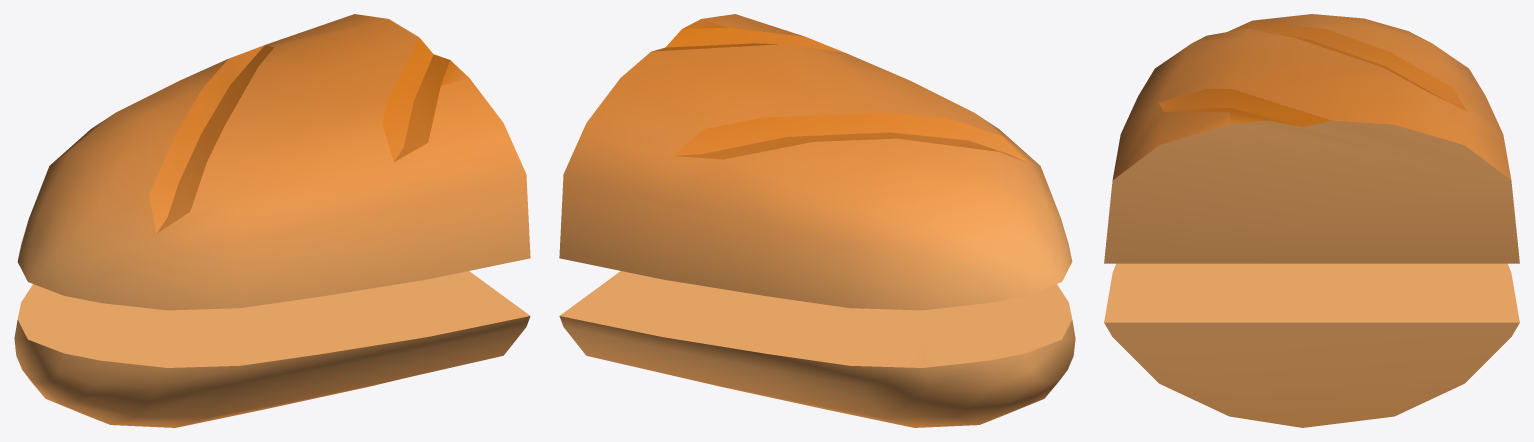
File: Sandwich_Loaf_top_half.001.fbx
3 renders of one model, left to right at view 1: azimuth 30°, elevation 25°; view 2: azimuth 150°, elevation 25°; view 3: azimuth 270°, elevation 25°, orthographic. The views are drawn at different scales.
Visible parts, largest first — view 1: Sandwich_Loaf_top_half.001, Sandwich_Loaf_Bottom_half.001; view 2: Sandwich_Loaf_top_half.001, Sandwich_Loaf_Bottom_half.001; view 3: Sandwich_Loaf_top_half.001, Sandwich_Loaf_Bottom_half.001.
Part boxes in pixels (x1,y1,x2,y2): Sandwich_Loaf_top_half.001: (17, 14, 530, 310); Sandwich_Loaf_Bottom_half.001: (14, 271, 530, 427); Sandwich_Loaf_top_half.001: (559, 14, 1072, 310); Sandwich_Loaf_Bottom_half.001: (559, 271, 1075, 427); Sandwich_Loaf_top_half.001: (1104, 14, 1519, 263); Sandwich_Loaf_Bottom_half.001: (1104, 263, 1519, 427).
Bounding box in the file's own units: 85.77 × 61.42 × 75.14.
